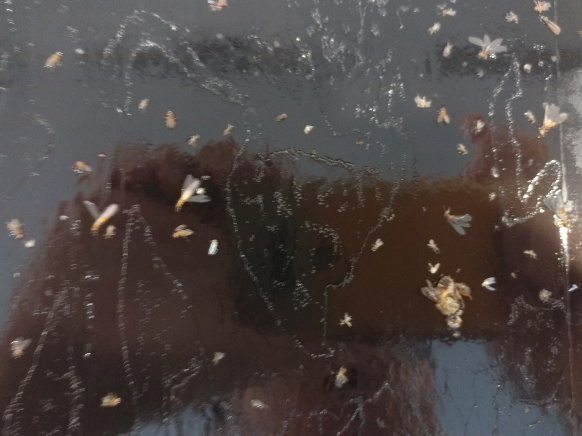flying termite: (168, 172, 214, 211), (82, 191, 121, 235), (467, 30, 506, 64), (534, 99, 567, 139), (438, 202, 473, 238), (535, 14, 562, 38)
